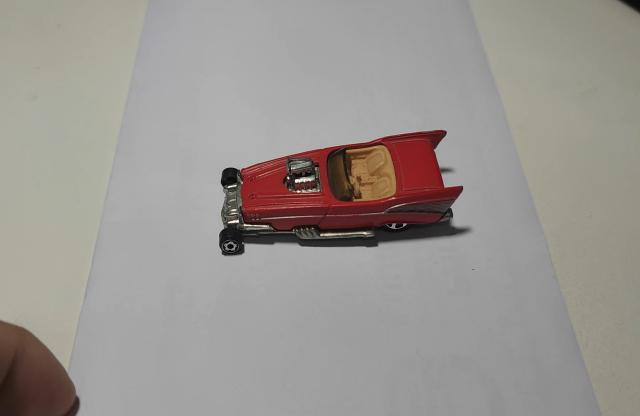03_V8: (218, 130, 463, 257)
